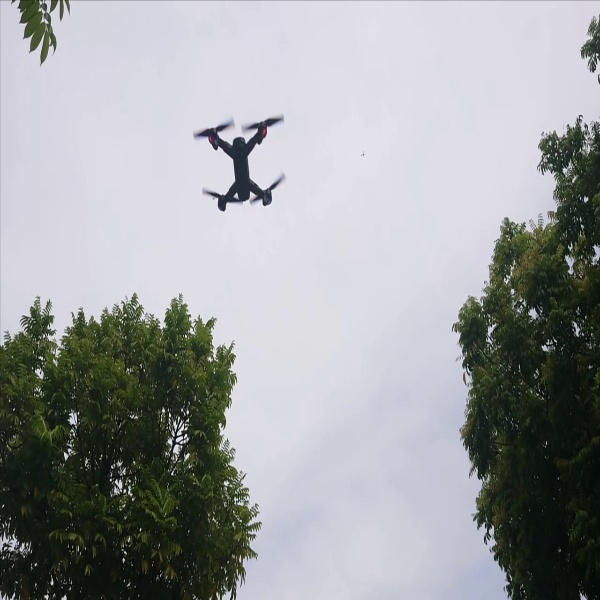drone: (193, 110, 295, 214)
